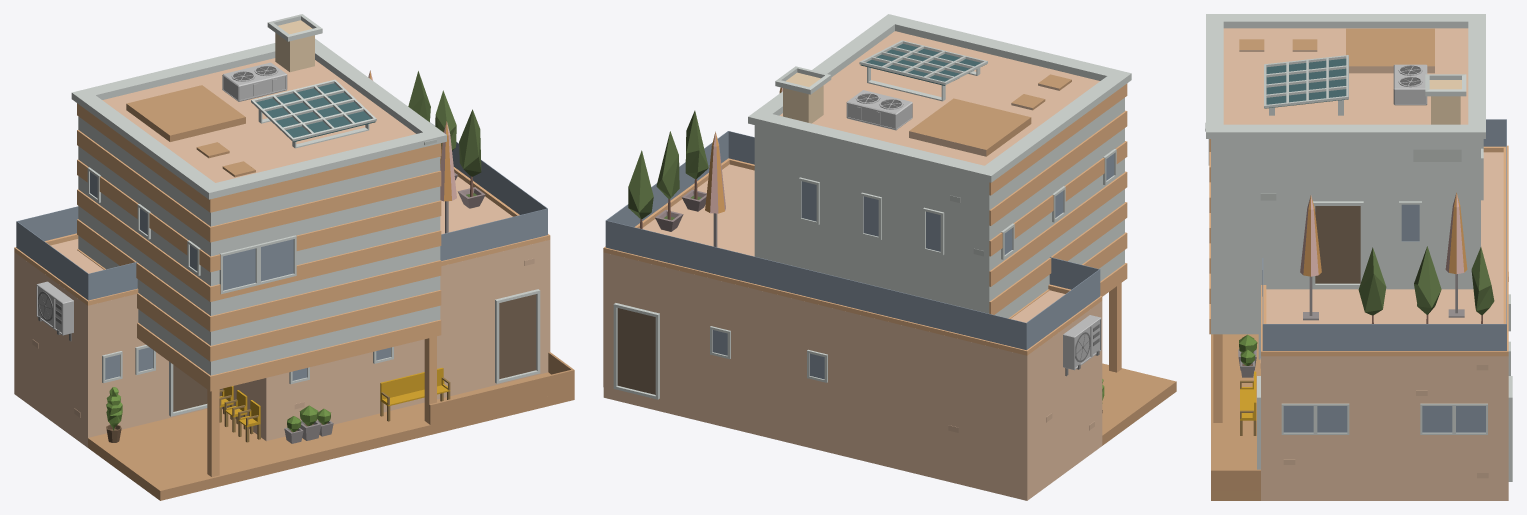
The model's file is house3.glb.
3 views of the same model, side by side, from view 1: azimuth 30°, elevation 25°; view 2: azimuth 150°, elevation 25°; view 3: azimuth 270°, elevation 25° (orthographic). The views are drawn at different scales.
Parts seen in each view (by area): view 1: HC004111177; view 2: HC004111177; view 3: HC004111177.
Boxes of the visible parts, x1=… form: HC004111177: x1=14, y1=14, x2=574, y2=500; HC004111177: x1=603, y1=14, x2=1176, y2=500; HC004111177: x1=1205, y1=14, x2=1512, y2=500.
Bounding box in the file's own units: 2.03 × 1.49 × 1.23.
